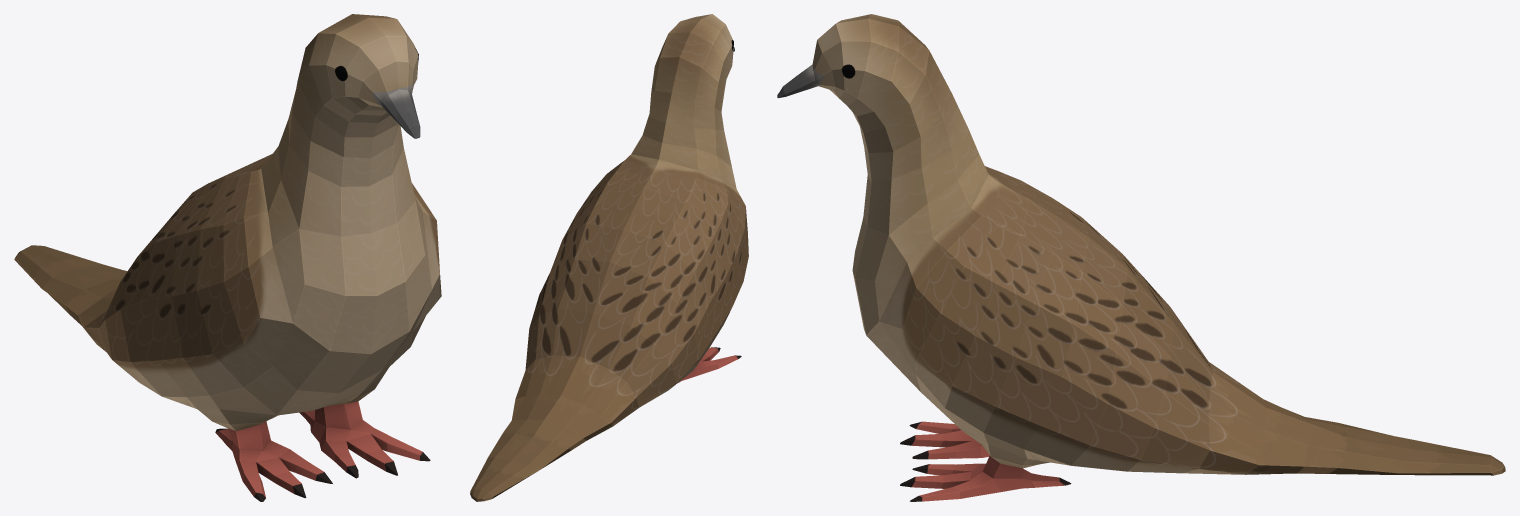
File: 07e6ba2c-4b92-4f61-a9d5-cded49b8298c.glb
3 renders of one model, left to right at view 1: azimuth 30°, elevation 25°; view 2: azimuth 150°, elevation 25°; view 3: azimuth 270°, elevation 25°, orthographic. The views are drawn at different scales.
Parts seen in each view (by area): view 1: MourningDoves_Mesh; view 2: MourningDoves_Mesh; view 3: MourningDoves_Mesh.
Part boxes in pixels (<box>): MourningDoves_Mesh: <box>14,14,441,501</box>; MourningDoves_Mesh: <box>470,14,748,501</box>; MourningDoves_Mesh: <box>777,14,1505,501</box>.
Size of the model in its own units: 0.783 by 1.53 by 2.24.
1 material, 1 textured.
